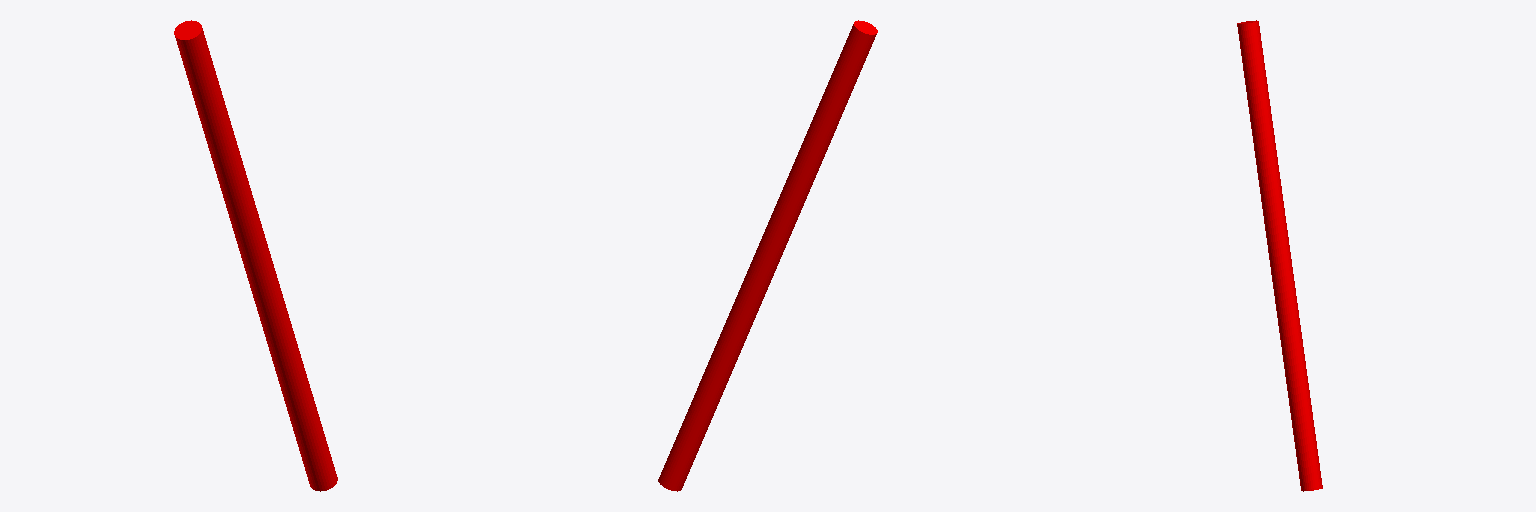
The robot description file, URDF, robot "tree_0.urdf":
<?xml version='1.0' encoding='utf-8'?>
<robot name="tree_0.urdf">
  <link name="branch_0">
    <inertial>
      <origin xyz="0.0 0.0 0.0" rpy="0.0 -0.0 0.0" />
      <mass value="1.0" />
      <inertia ixx="1.0" ixy="0.0" ixz="0.0" iyy="1.0" iyz="0.0" izz="1.0" />
    </inertial>
    <visual name="branch_0_visual">
      <geometry>
        <cylinder radius="0.05609708829281466" length="2.426672438829133" />
      </geometry>
      <material name="semantic_material" />
      <origin xyz="-0.4010127143006044 -0.16425058228978526 1.1333116652227493" rpy="-5.136919743237521e-17 0.36521819612525225 -2.7528469302742318" />
    </visual>
    <collision name="branch_0_collision">
      <geometry>
        <cylinder radius="0.05609708829281466" length="2.426672438829133" />
      </geometry>
      <origin xyz="-0.4010127143006044 -0.16425058228978526 1.1333116652227493" rpy="-5.136919743237521e-17 0.36521819612525225 -2.7528469302742318" />
    </collision>
  </link>
  <material name="semantic_material">
    <color rgba="1. 0. 0. 1." />
  </material>
</robot>

--- What the picture shows (computed from the rendered views, not written in the file) ---
3 views of the same robot in one strip: view 1: azimuth 30°, elevation 25°; view 2: azimuth 150°, elevation 25°; view 3: azimuth 270°, elevation 25° (orthographic).
Model tree_0.urdf with 1 links and 0 joints (none), rooted at branch_0, posed all joints at 0.
Links seen in each view (by area): view 1: branch_0; view 2: branch_0; view 3: branch_0.
Boxes of the visible links, bbox=[...] form: branch_0: bbox=[174, 20, 337, 491]; branch_0: bbox=[658, 20, 877, 491]; branch_0: bbox=[1237, 20, 1322, 491].
Size in the robot's own frame: 0.9079 by 0.4396 by 2.31 metres.
Geometry: primitives only (box / cylinder / sphere), no mesh files.